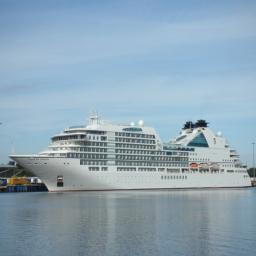cruises: (10, 108, 253, 192)
